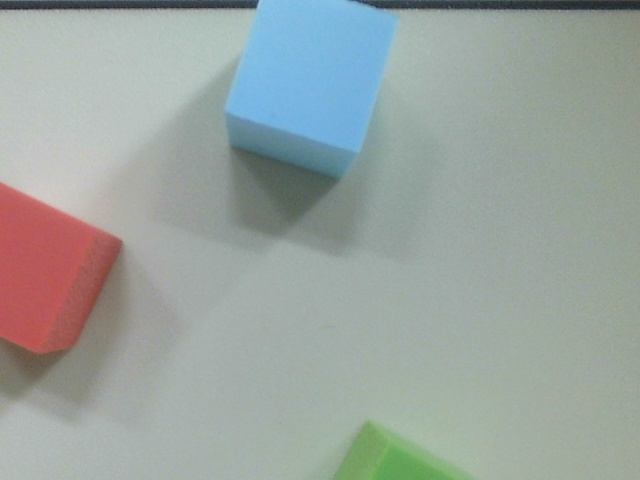greencube: (301, 419, 491, 480)
